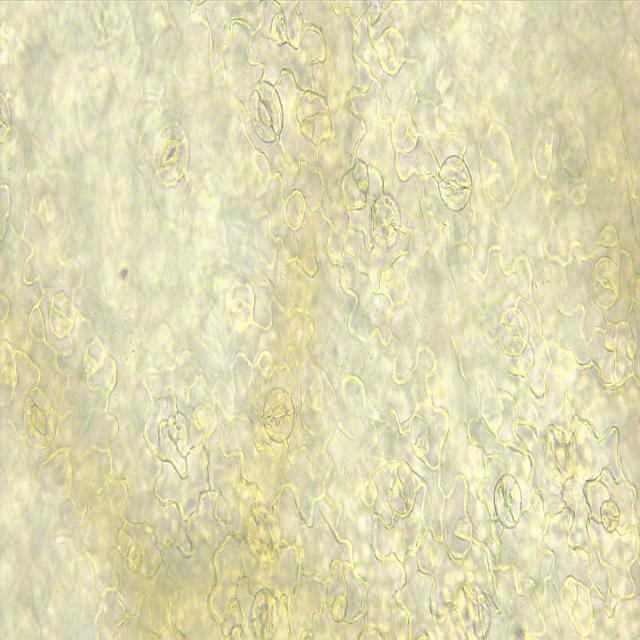Stomata: (244, 501, 284, 567), (152, 121, 189, 188), (248, 78, 284, 145), (22, 385, 58, 450), (437, 153, 474, 214), (262, 386, 297, 446), (370, 192, 403, 252), (223, 277, 257, 334), (493, 472, 523, 530), (385, 463, 416, 518), (249, 586, 279, 640), (591, 256, 620, 310), (499, 307, 529, 357)
